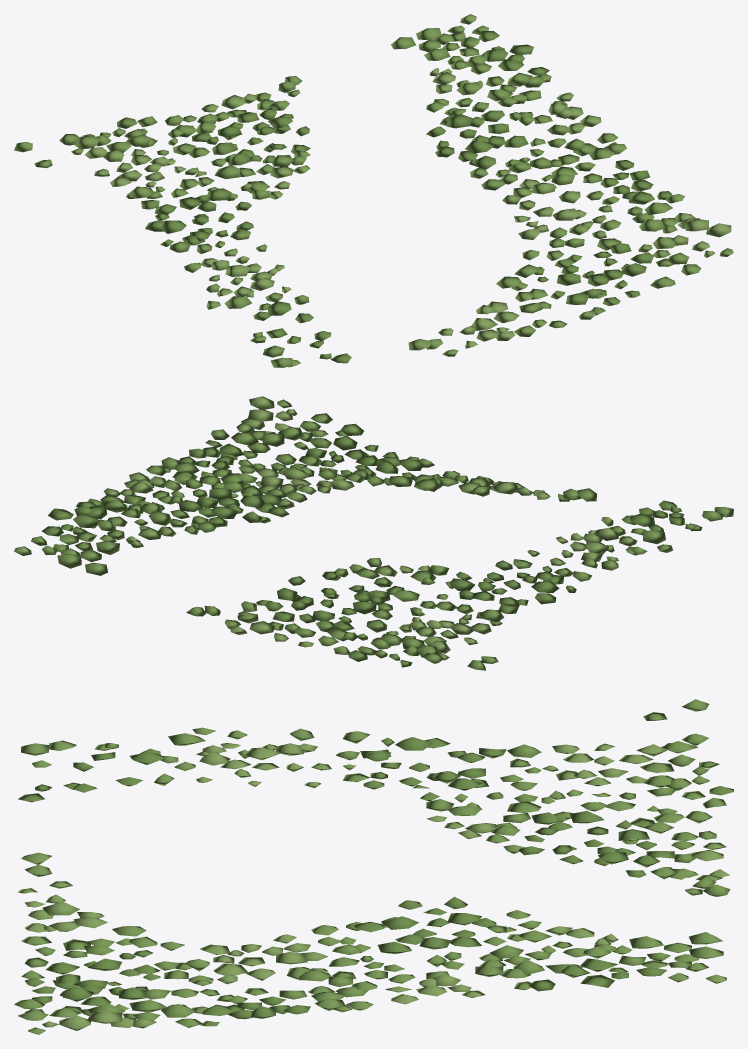
The model's file is canopy-1-0--4.glb.
3 views of the same model, one above another, from view 1: azimuth 30°, elevation 25°; view 2: azimuth 150°, elevation 25°; view 3: azimuth 270°, elevation 25° (orthographic). The views are drawn at different scales.
Bounding box in the file's own units: 515 × 82.5 × 515.
1 material, 1 textured.
